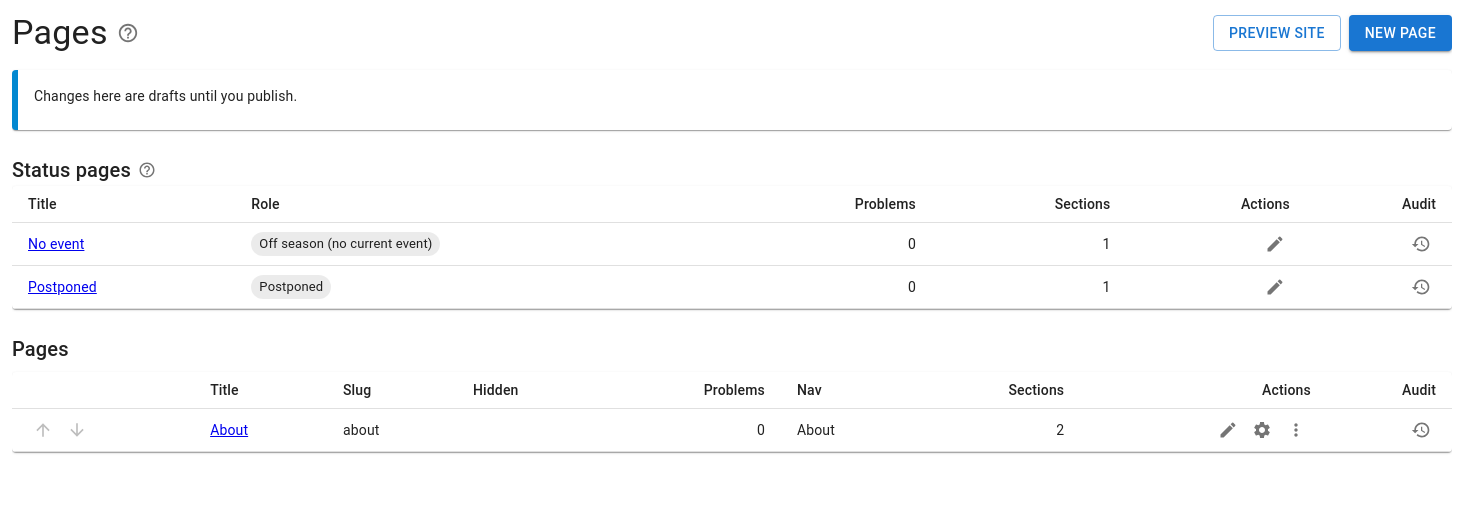
it: PagesList › role pages render no delete action
Expected: the field labelled "delete" is not shown
Expected: the link named "edit no event" is shown, [1265, 234, 1285, 254]
Click the button named "Actions for About".
click(1296, 430)  # box [1281, 415, 1311, 445]
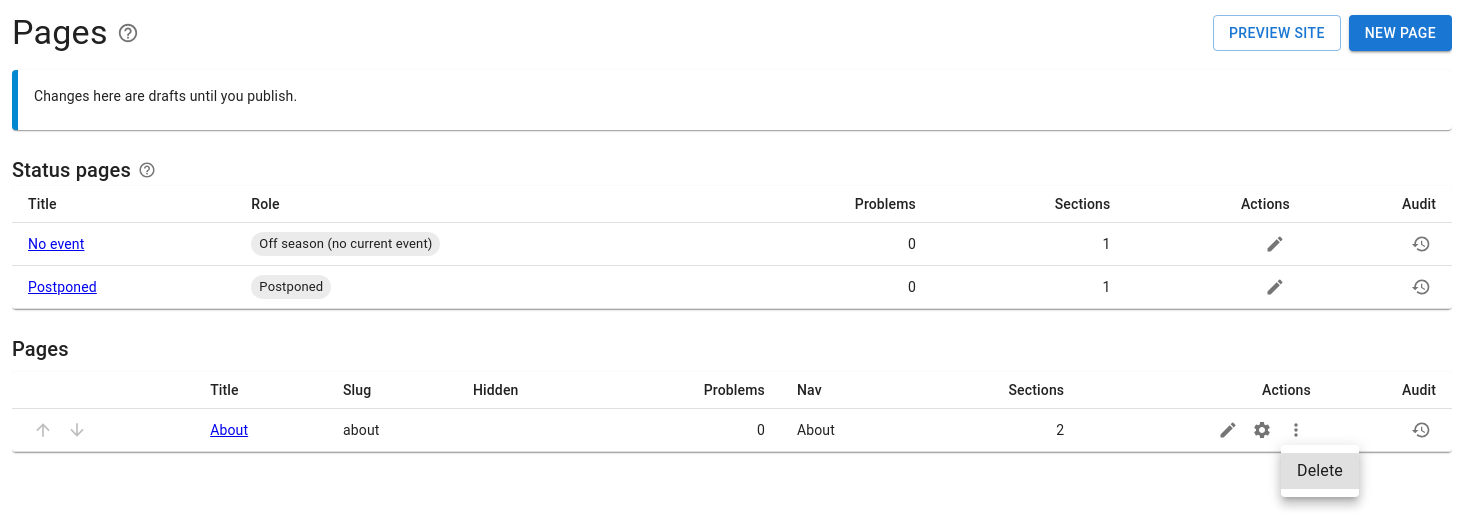
Expected: the menu item "Delete" is shown, [1281, 453, 1359, 489]
